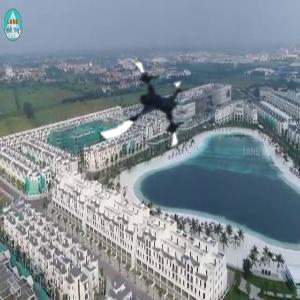drone: (92, 57, 197, 162)
